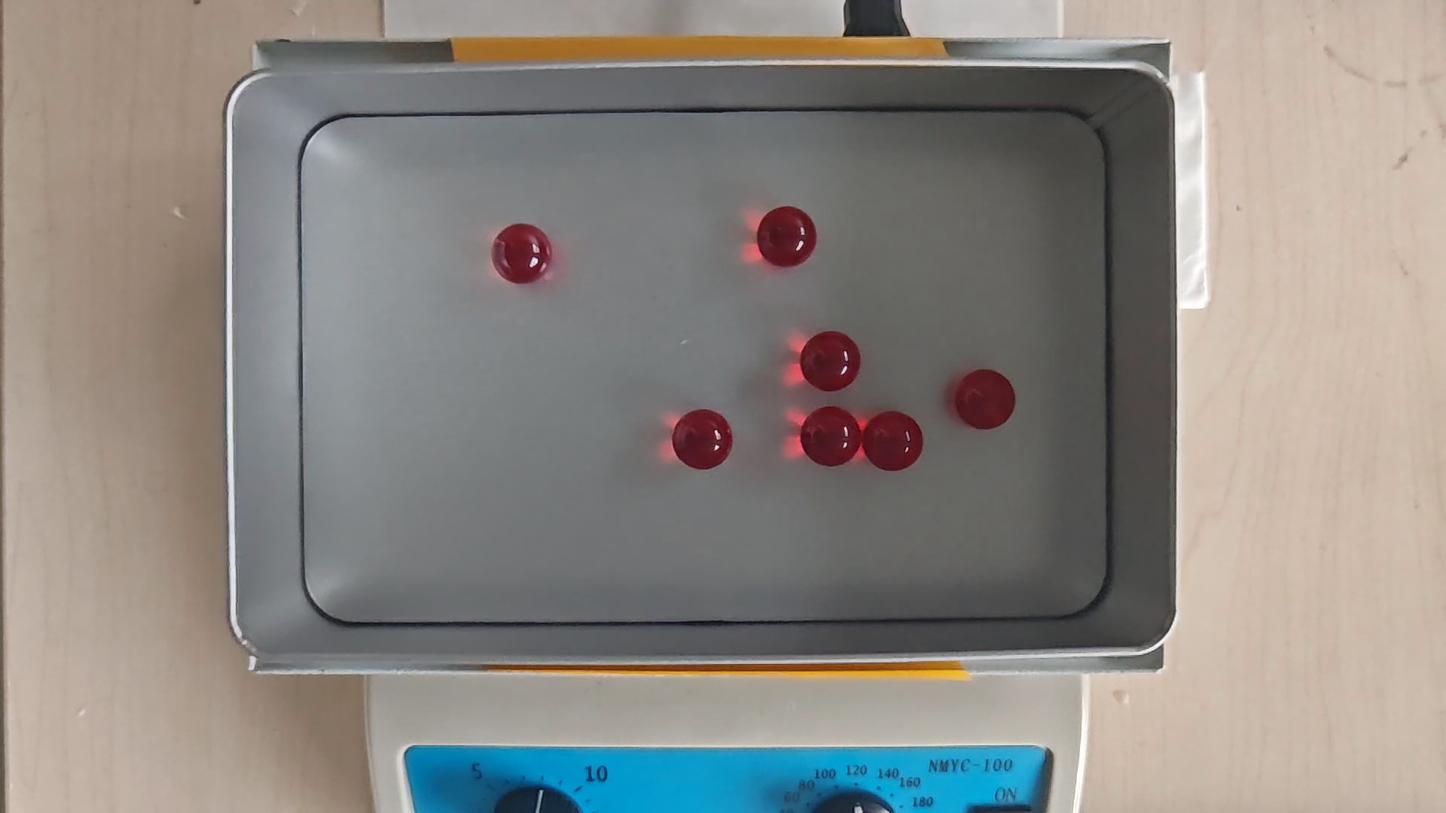ball: (758, 205, 819, 267), (674, 407, 733, 469), (801, 406, 861, 466), (865, 410, 923, 472), (493, 222, 551, 283), (958, 368, 1014, 431), (802, 332, 861, 391)
container: (295, 108, 1107, 620)
